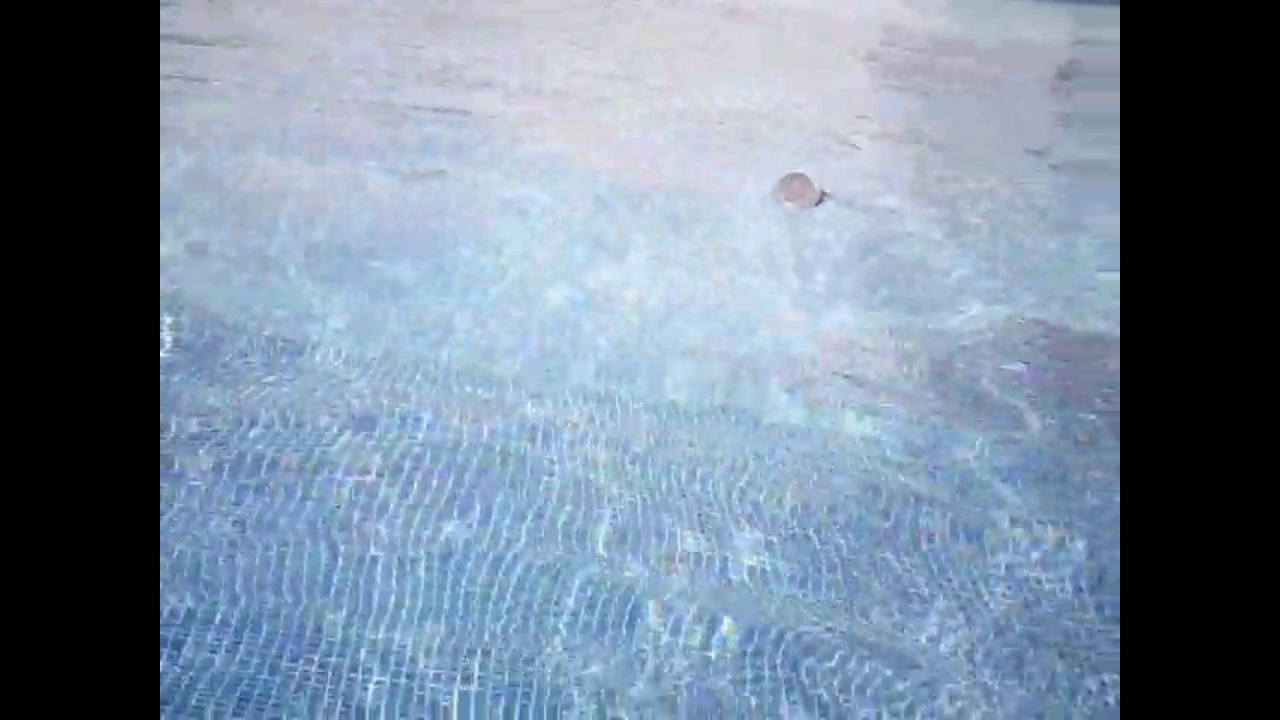debris: (762, 160, 840, 227)
